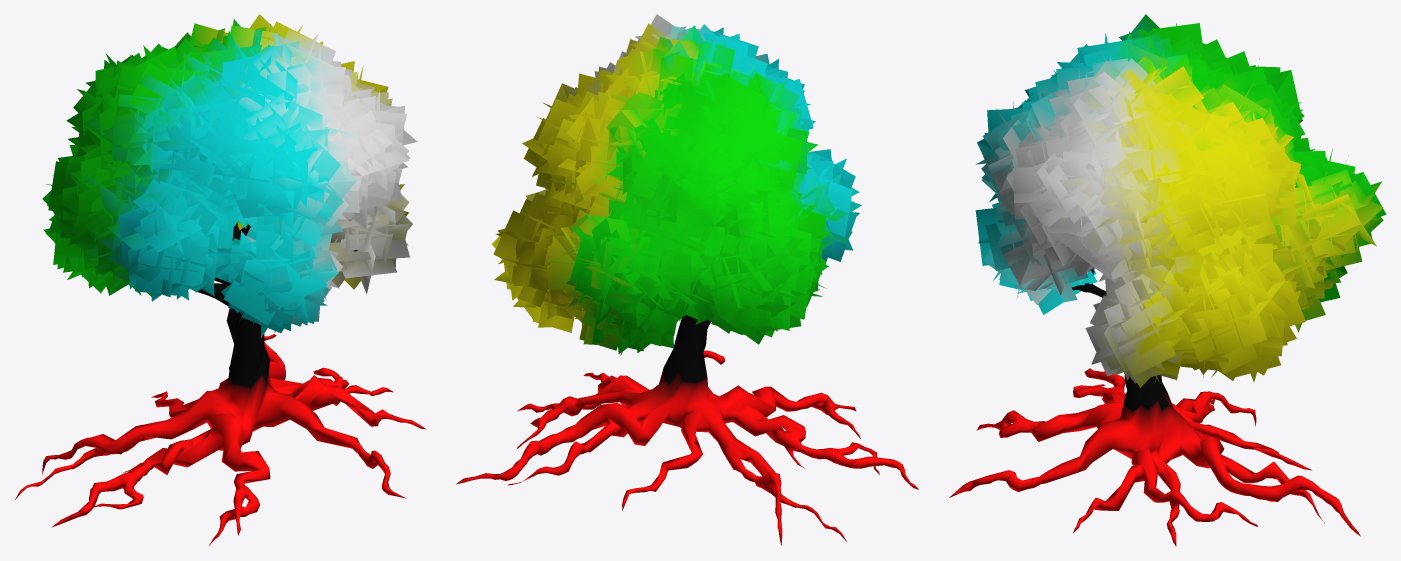
File: OakTree02.fbx
3 renders of one model, left to right at view 1: azimuth 30°, elevation 25°; view 2: azimuth 150°, elevation 25°; view 3: azimuth 270°, elevation 25°, orthographic. The views are drawn at different scales.
Parts seen in each view (by area): view 1: OakTreeLeaves02, OakTreeTrunk02; view 2: OakTreeLeaves02, OakTreeTrunk02; view 3: OakTreeLeaves02, OakTreeTrunk02.
Part boxes in pixels (box(x1,y1,x2,y2)): OakTreeLeaves02: box(42, 14, 417, 337); OakTreeTrunk02: box(15, 222, 425, 545); OakTreeLeaves02: box(491, 14, 861, 353); OakTreeTrunk02: box(456, 315, 918, 545); OakTreeLeaves02: box(975, 14, 1386, 387); OakTreeTrunk02: box(949, 269, 1360, 546).
Size of the model in its own units: 1175 by 1335 by 1143.
